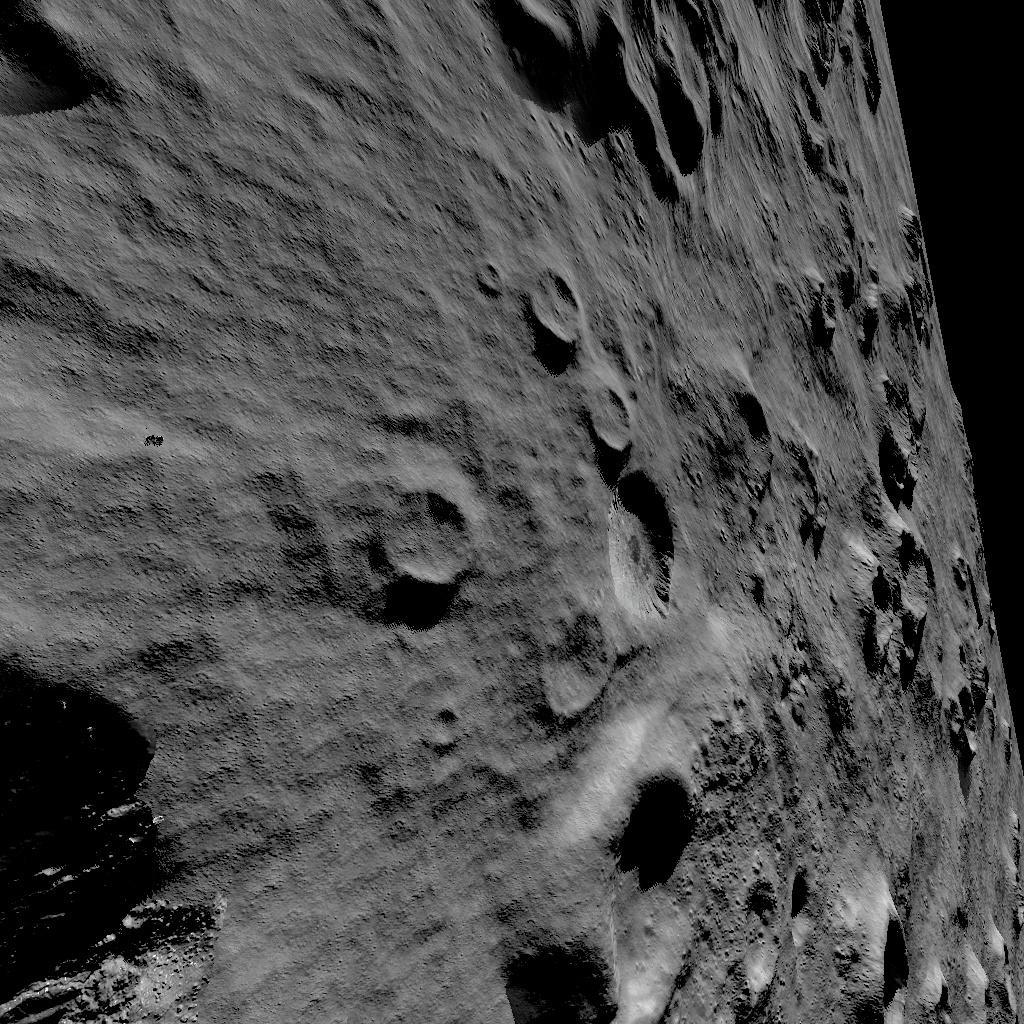Boulders: (0, 638, 236, 1024), (0, 0, 183, 145)
Crater: (521, 270, 673, 618), (484, 0, 738, 195), (846, 425, 995, 755), (536, 755, 708, 1024), (726, 868, 918, 1024), (761, 0, 883, 183), (376, 485, 478, 598), (701, 372, 778, 506)
Plan surface: (198, 0, 470, 475), (250, 635, 520, 1024)
